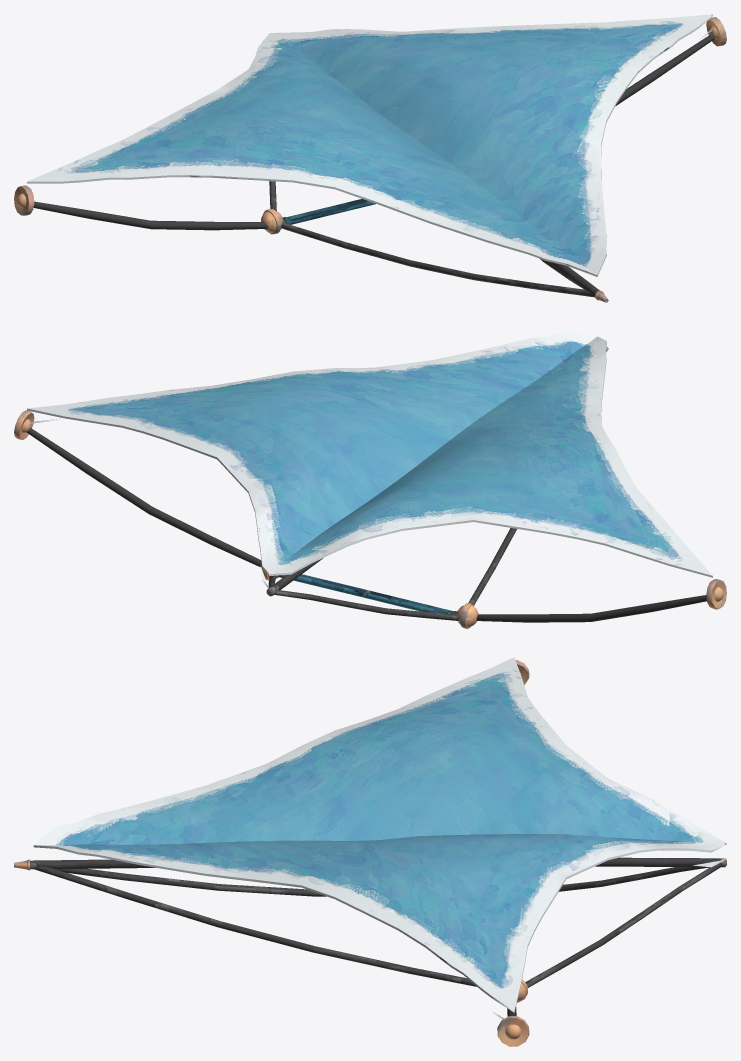
The model's file is glider2.glb.
3 views of the same model, one above another, from view 1: azimuth 30°, elevation 25°; view 2: azimuth 150°, elevation 25°; view 3: azimuth 270°, elevation 25° (orthographic). The views are drawn at different scales.
Visible parts, largest first — view 1: Glider.001, Glider; view 2: Glider.001, Glider; view 3: Glider.001, Glider.
Boxes of the visible parts, x1=… form: Glider.001: x1=26, y1=14, x2=712, y2=276; Glider: x1=14, y1=17, x2=726, y2=302; Glider.001: x1=27, y1=331, x2=712, y2=577; Glider: x1=14, y1=347, x2=726, y2=628; Glider.001: x1=33, y1=657, x2=726, y2=1012; Glider: x1=14, y1=660, x2=726, y2=1046.
Size of the model in its own units: 5.33 by 1.05 by 4.42.
1 material, 1 textured.
